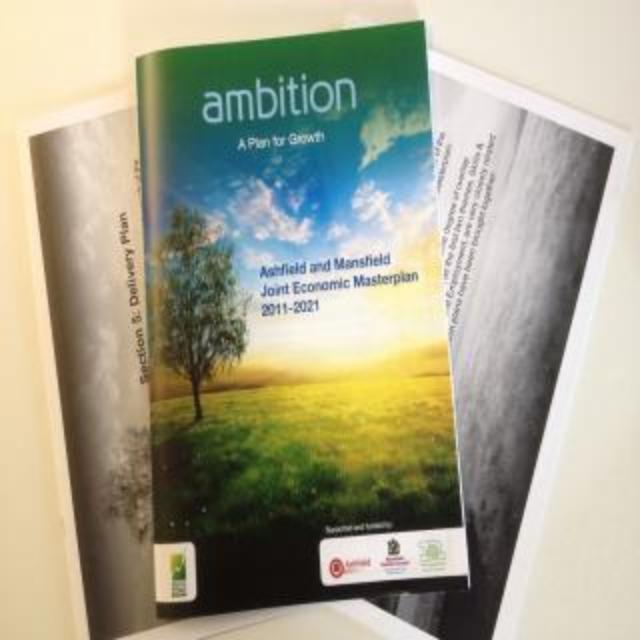book: (92, 32, 530, 604)
